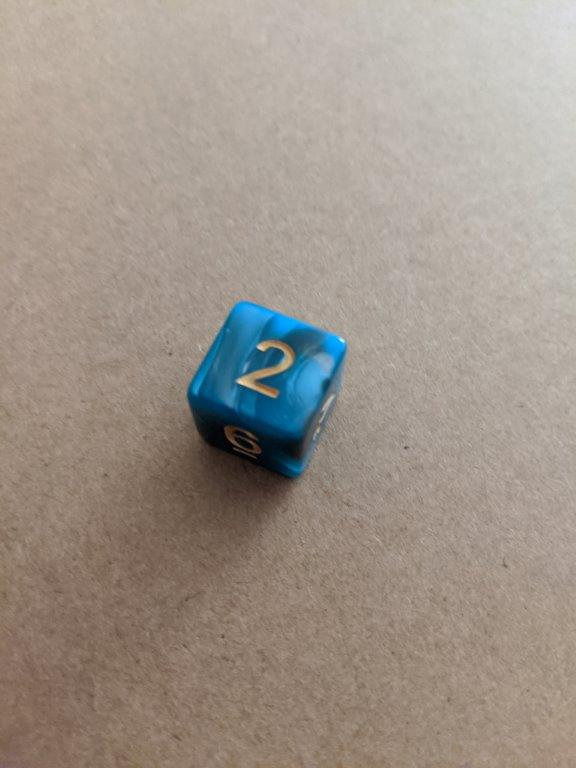d6-2: (187, 299, 349, 479)
